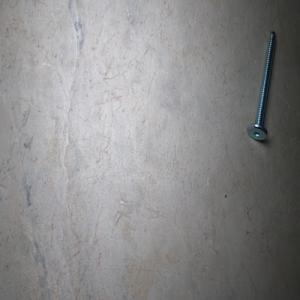Bolt: (246, 30, 276, 140)
